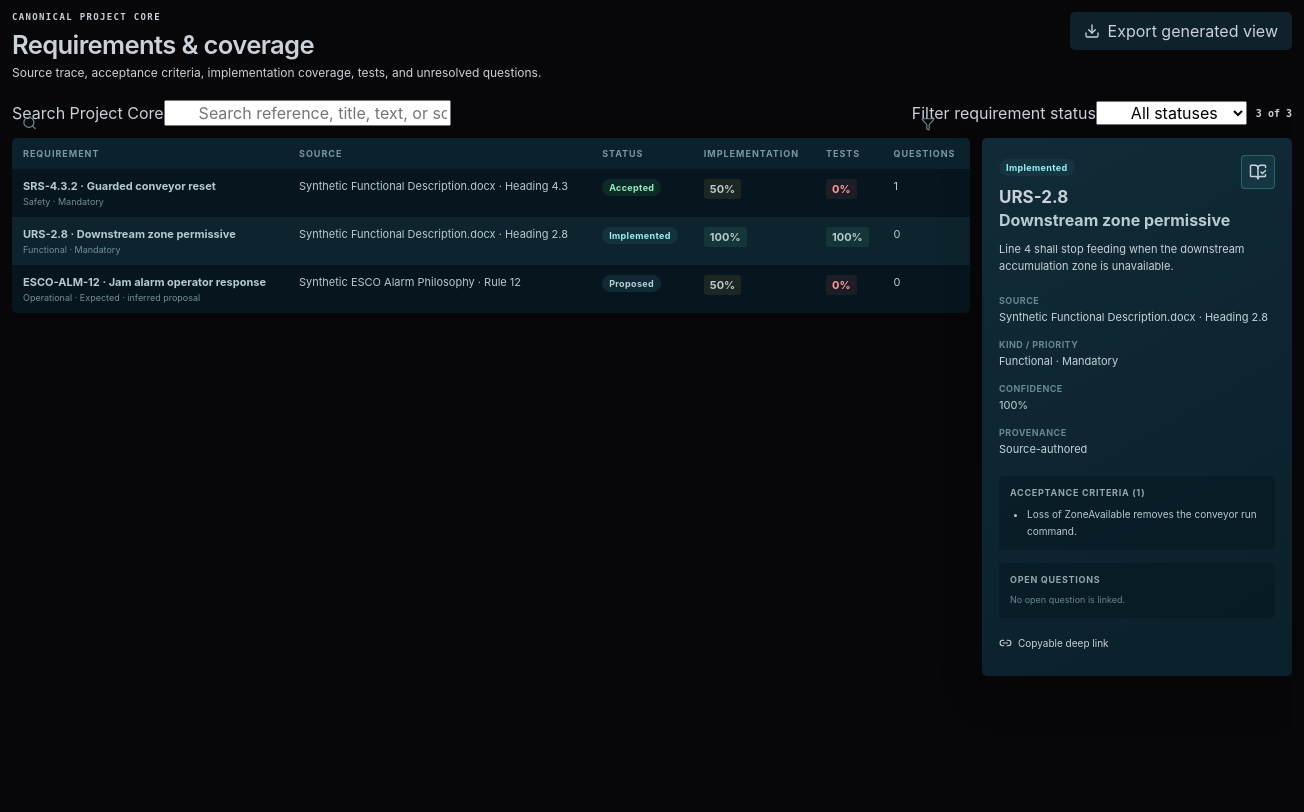
Test: ProjectCoreExplorer › applies a route selection once without snapping back after live data refresh
Later steps or results of the test are not shown.
Click the button "SRS-4.3.2 · Guarded conveyor reset Safety · Mandatory". click: (150, 193)
box: [23,179,277,207]
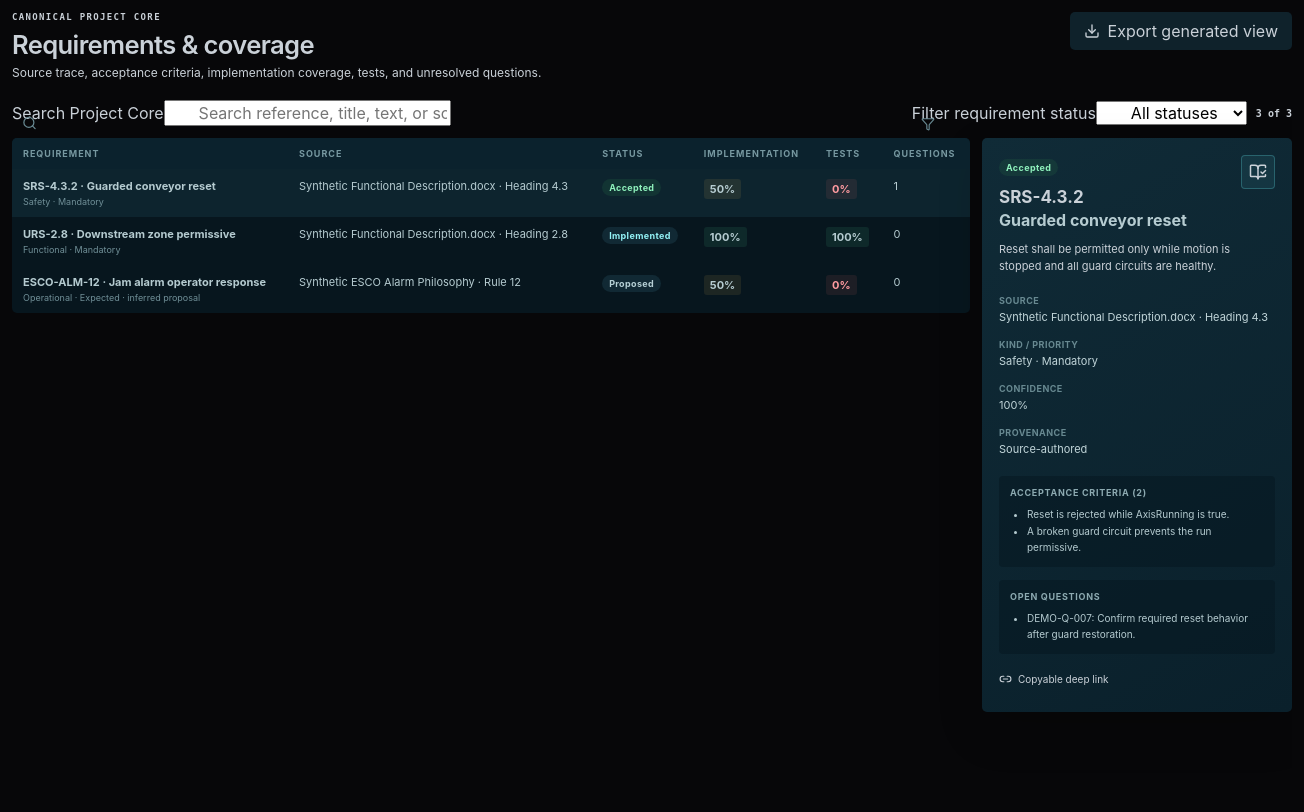
Expected: the heading "SRS-4.3.2" is shown, [999,187,1084,207]
